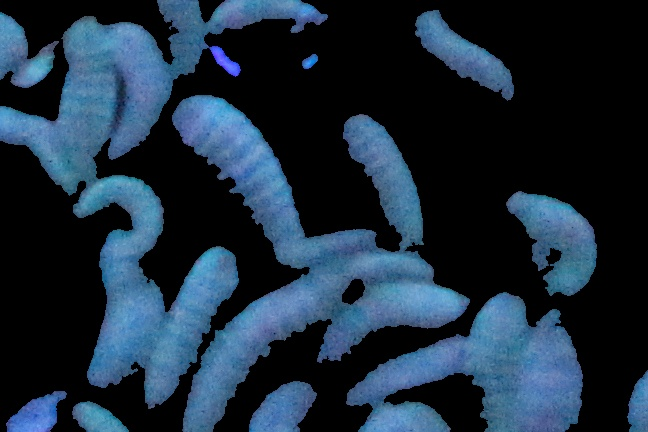larvae: (170, 281, 320, 432), (176, 90, 301, 238), (145, 239, 245, 405), (312, 281, 471, 366), (340, 113, 426, 246), (506, 191, 599, 297), (77, 234, 142, 385), (103, 23, 172, 157), (51, 14, 120, 147), (416, 11, 519, 100), (345, 336, 468, 408), (521, 310, 583, 432), (1, 110, 83, 196), (71, 175, 161, 248), (472, 290, 523, 394), (152, 1, 212, 82), (204, 1, 330, 37), (323, 251, 447, 285), (247, 380, 325, 432), (353, 399, 453, 432), (272, 232, 378, 261)
